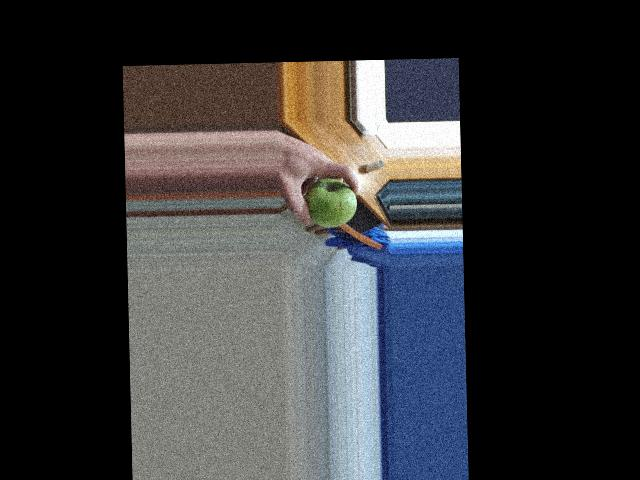apple: (303, 176, 359, 229)
